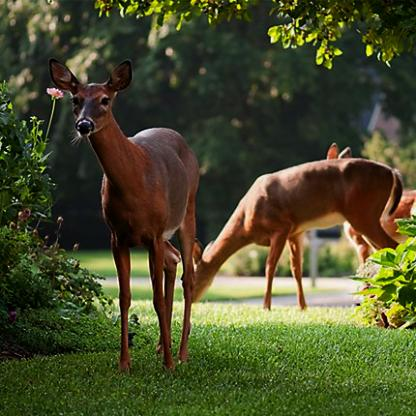Deer: (46, 49, 201, 378), (178, 156, 407, 320)
